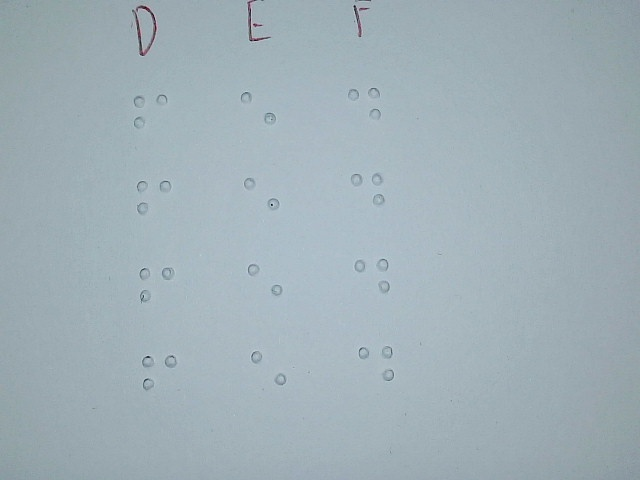D: (345, 75, 384, 143), (348, 161, 387, 229), (352, 245, 391, 313), (356, 333, 395, 401)
E: (238, 79, 280, 152), (240, 165, 282, 238), (245, 252, 287, 325), (248, 337, 290, 410)
F: (131, 81, 171, 151), (134, 166, 174, 236), (137, 254, 177, 324), (140, 341, 180, 411)
